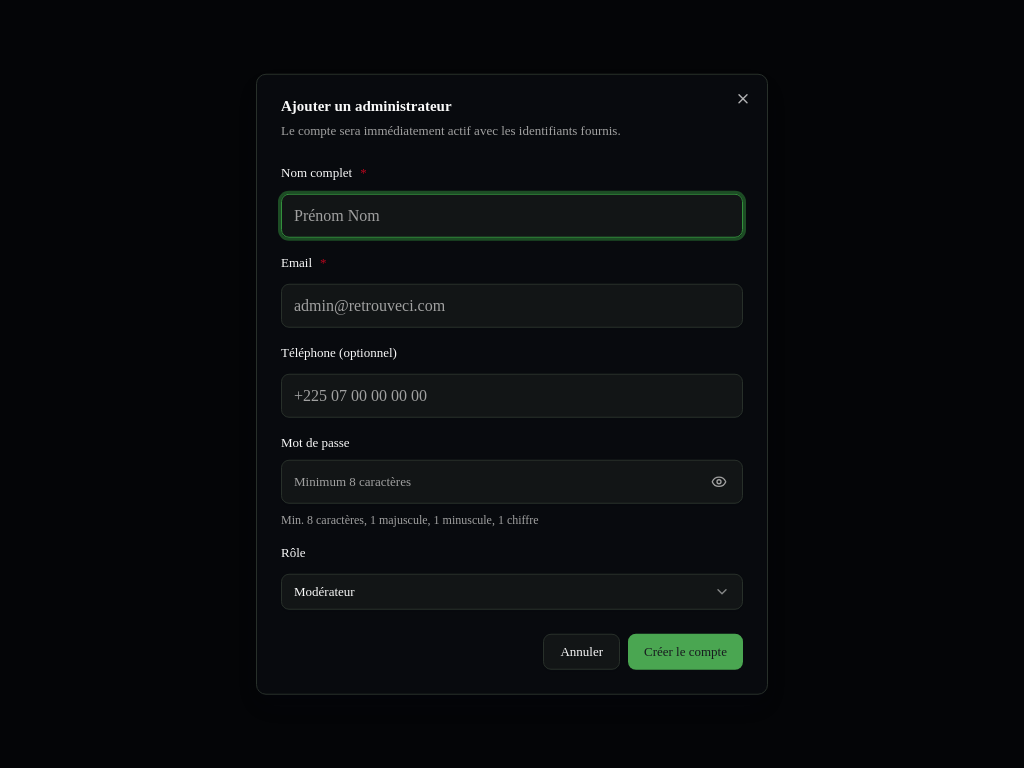
Test: AdminCreateDialog › reports the schema messages without reaching the action
Step 1. Click the button "Créer le compte" → (686, 651), box [628,633,743,669]
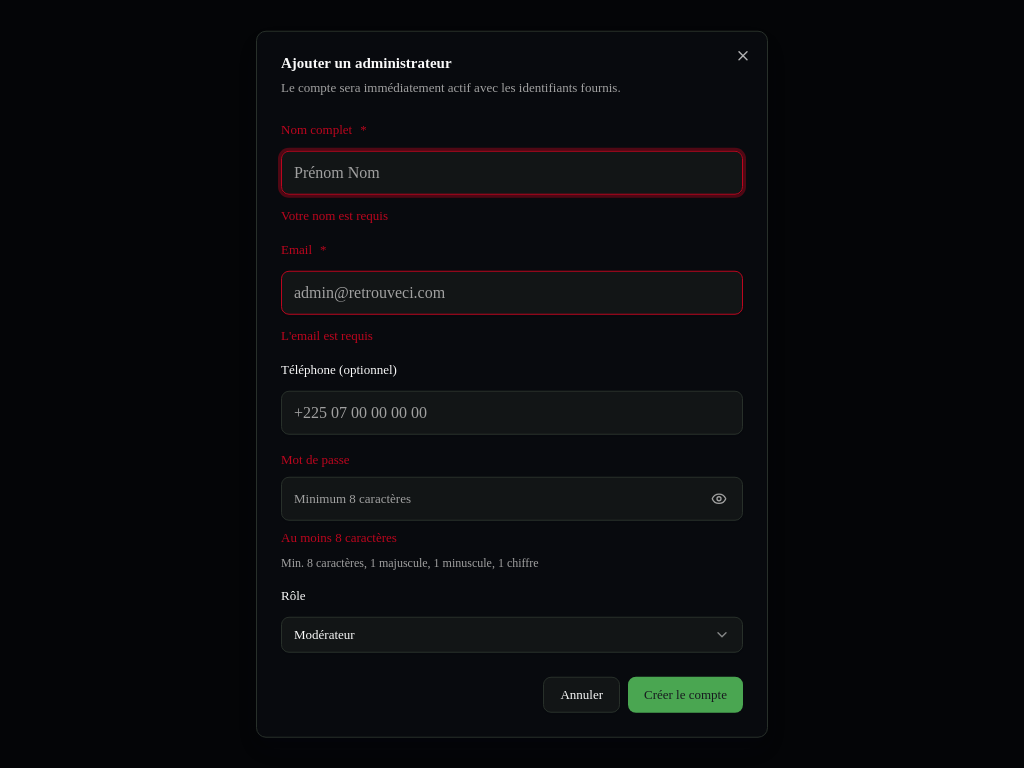
Now the text "Votre nom est requis" is shown, box [281,208,388,223]
Now the text "L'email est requis" is shown, box [281,328,373,342]
Now the text "Au moins 8 caractères" is shown, box [281,529,397,544]
